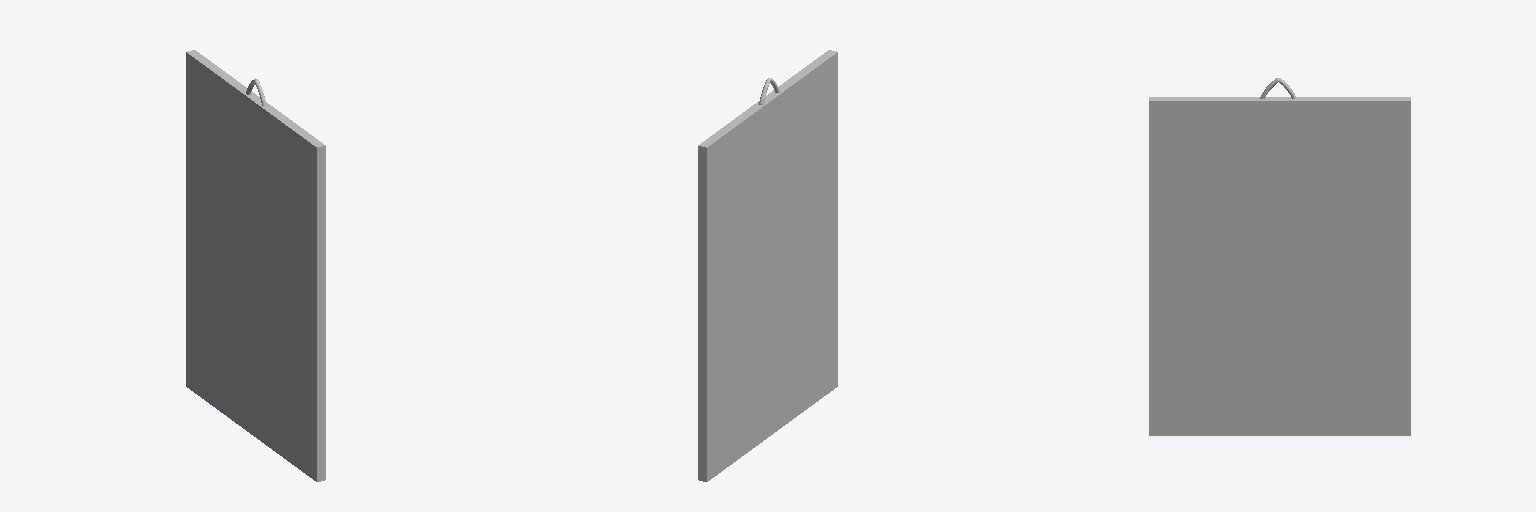
Rendered from cartelBoliche.obj.
3 renders of one model, left to right at view 1: azimuth 30°, elevation 25°; view 2: azimuth 150°, elevation 25°; view 3: azimuth 270°, elevation 25°, orthographic.
Parts seen in each view (by area): view 1: Poster; view 2: Poster; view 3: Poster.
Boxes of the visible parts, box(x1,y1,x2,y2) form: Poster: box(186, 50, 325, 481); Poster: box(698, 50, 837, 481); Poster: box(1149, 97, 1410, 435).
Size of the model in its own units: 0.1401 by 5.28 by 3.53.